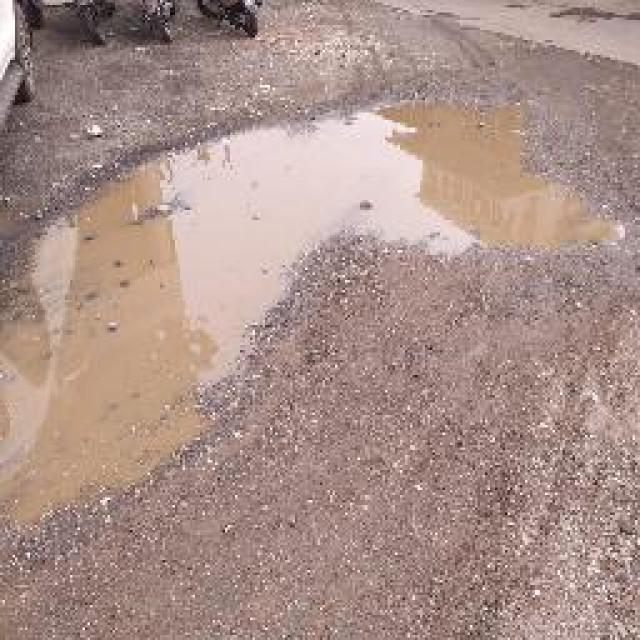stagnation: (16, 85, 618, 372)
